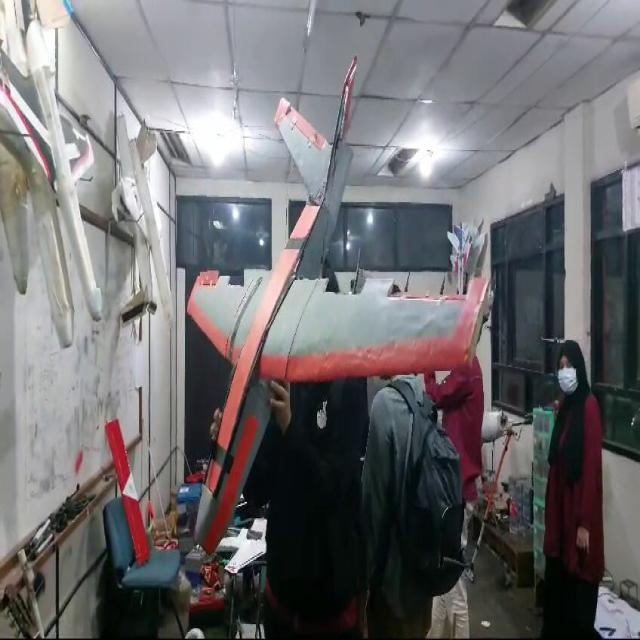plane: (186, 53, 494, 556)
